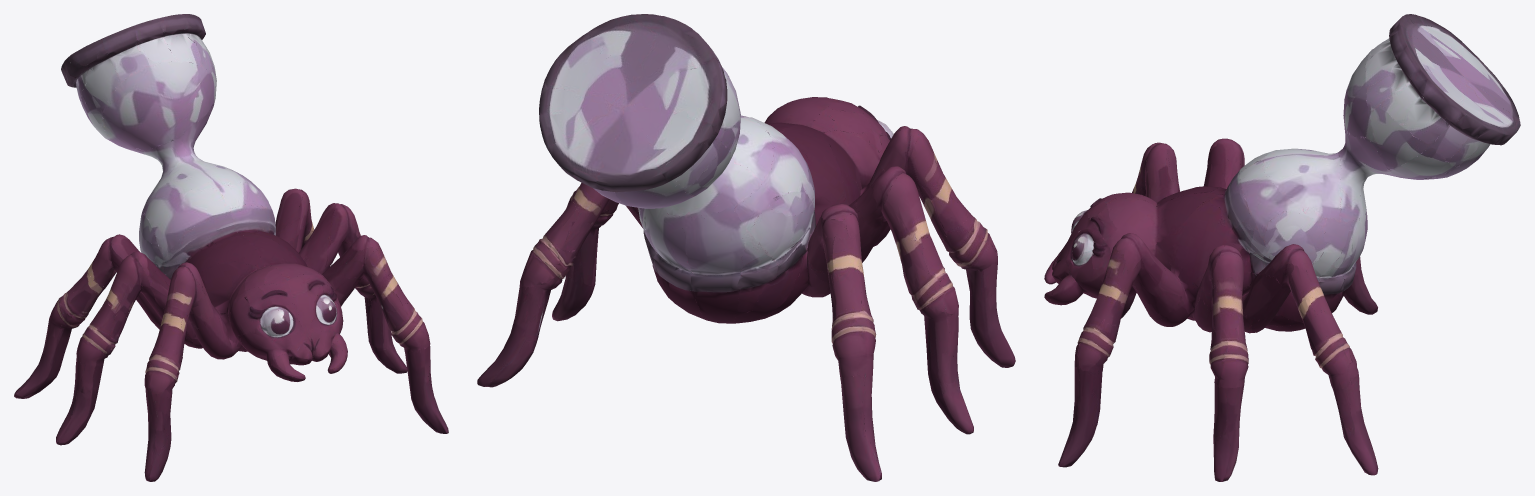
3 views of the same model, side by side, from view 1: azimuth 30°, elevation 25°; view 2: azimuth 150°, elevation 25°; view 3: azimuth 270°, elevation 25° (orthographic). The views are drawn at different scales.
Visible parts, largest first — view 1: Mesh_0; view 2: Mesh_0; view 3: Mesh_0.
Part boxes in pixels (x1,y1,x2,y2): Mesh_0: [14, 14, 448, 481]; Mesh_0: [477, 14, 1015, 481]; Mesh_0: [1044, 14, 1520, 481].
Size of the model in its own units: 1.72 by 1.62 by 1.9.
Materials: 1 (1 with a texture image).
